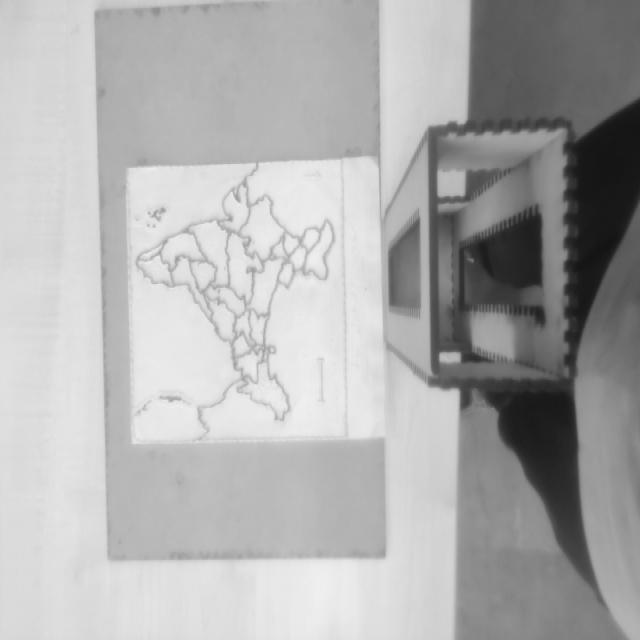map: (128, 159, 347, 441)
